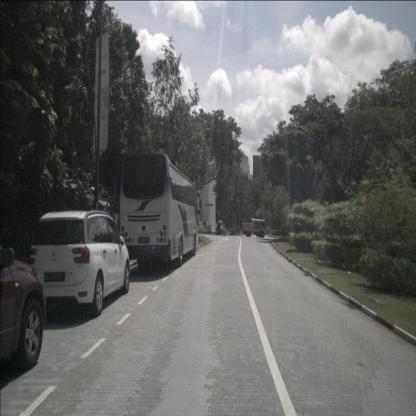human-pedestrian-adult: (282, 220, 286, 240), (217, 220, 220, 234)
vehicle-bus-rigid: (119, 152, 199, 272)
vehicle-car: (29, 210, 130, 317), (0, 244, 46, 369)
vehicle-motorcycle: (215, 220, 226, 236)
vehicle-truck: (241, 218, 267, 238)
